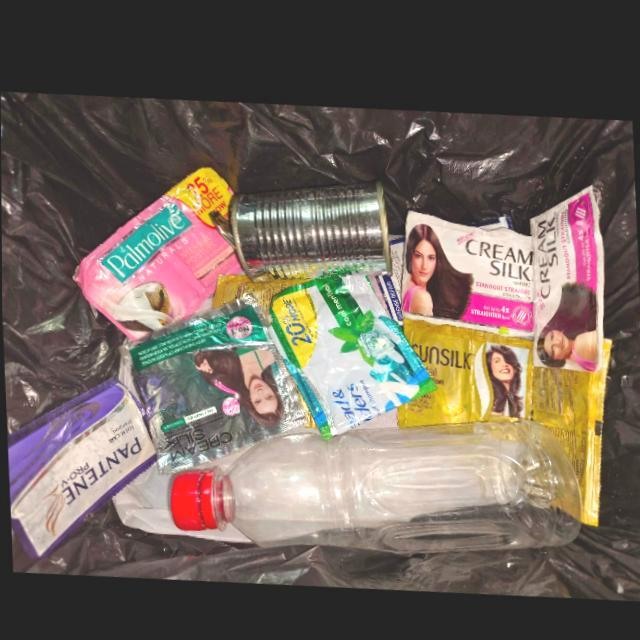aluminum: (227, 177, 389, 274)
plastic_bottle: (171, 411, 583, 545)
plastic_sachet: (120, 289, 309, 473), (74, 163, 241, 339), (267, 269, 437, 436), (6, 373, 156, 562), (400, 205, 533, 332), (529, 328, 613, 517), (396, 313, 532, 420), (530, 174, 602, 364), (212, 270, 311, 320), (375, 229, 404, 326), (460, 206, 513, 221)
